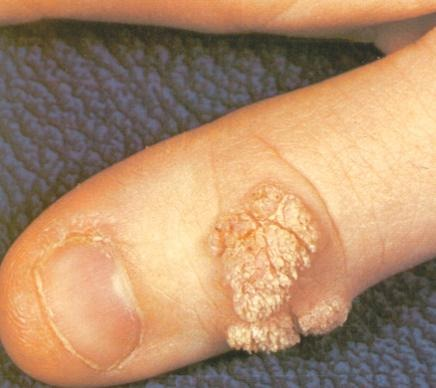Warts: (190, 155, 362, 366)
